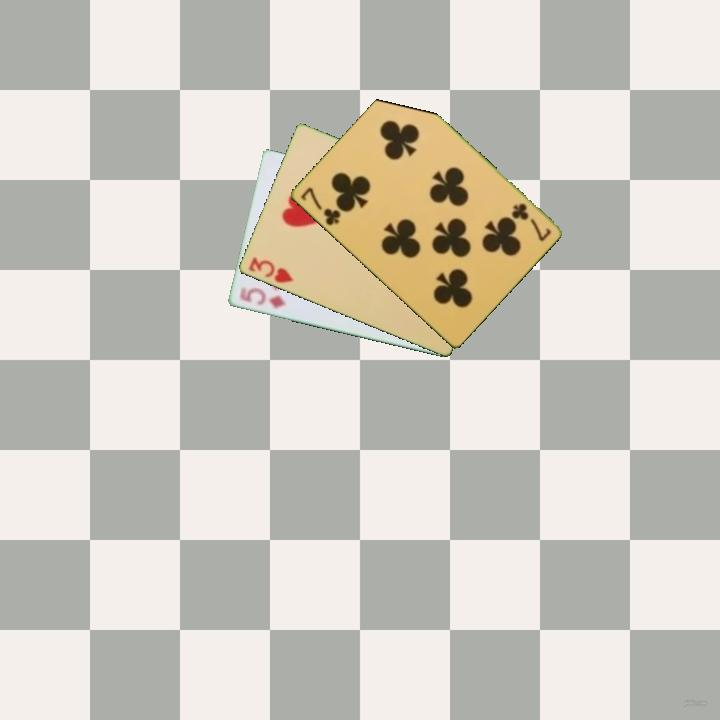3h: (244, 253, 297, 286)
5d: (235, 284, 288, 312)
7c: (297, 183, 343, 229), (507, 199, 554, 244)
